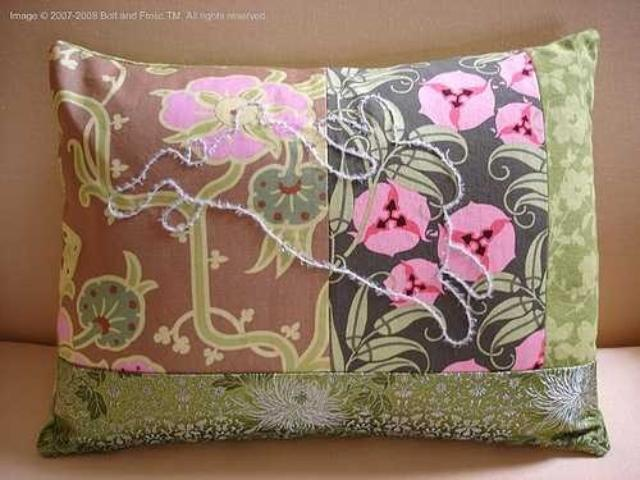pillow: (36, 28, 608, 458)
